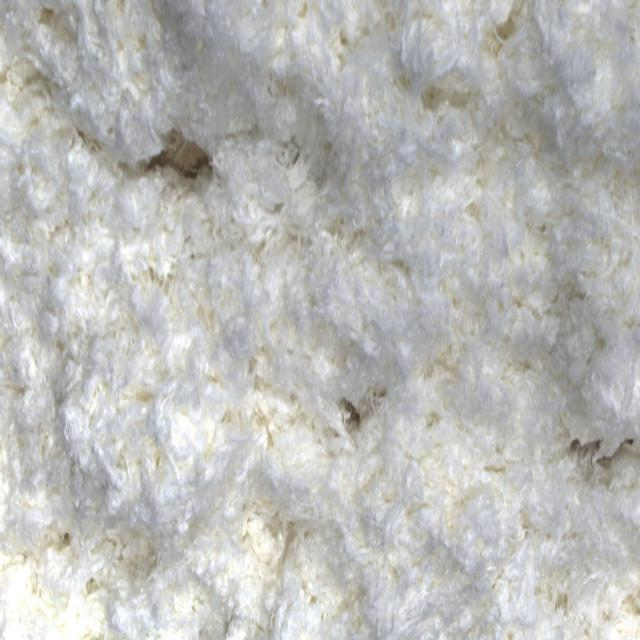dust: (143, 125, 206, 186)
